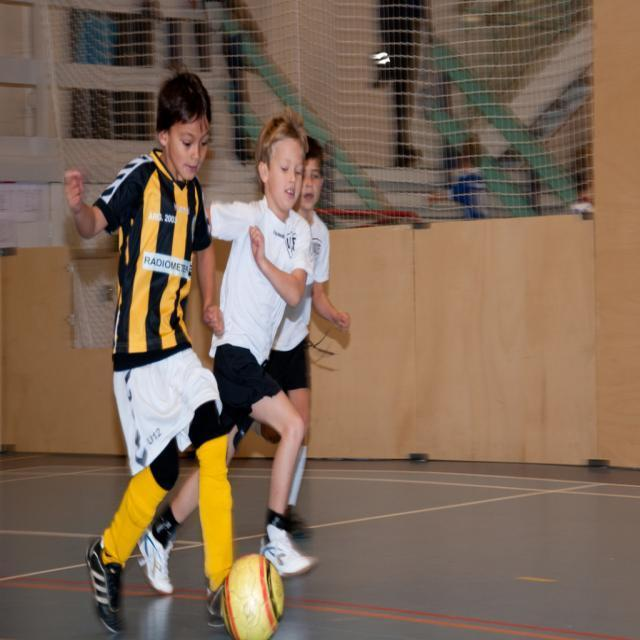football: (218, 546, 287, 640)
